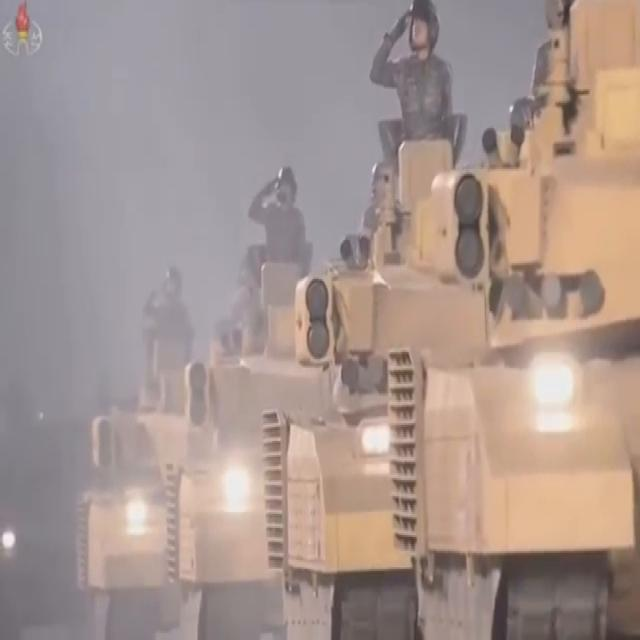north tank: (395, 102, 640, 640), (277, 215, 404, 640), (164, 288, 290, 640), (75, 342, 171, 639)
